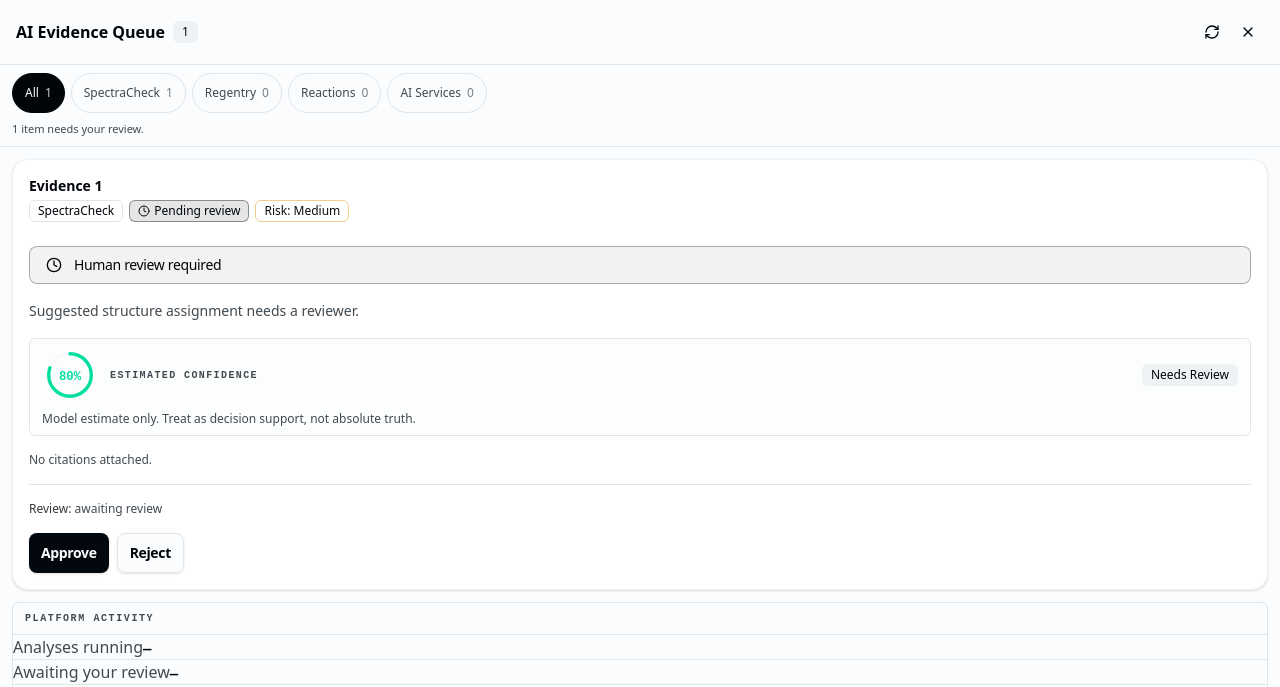
AIEvidenceQueuePanel › refetches on demand from the refresh control
Expected: the text "Evidence 1" is shown, [29,176,102,194]
Click the button named "Refresh AI Evidence Queue" at [1212, 32], box [1196,12,1228,52]
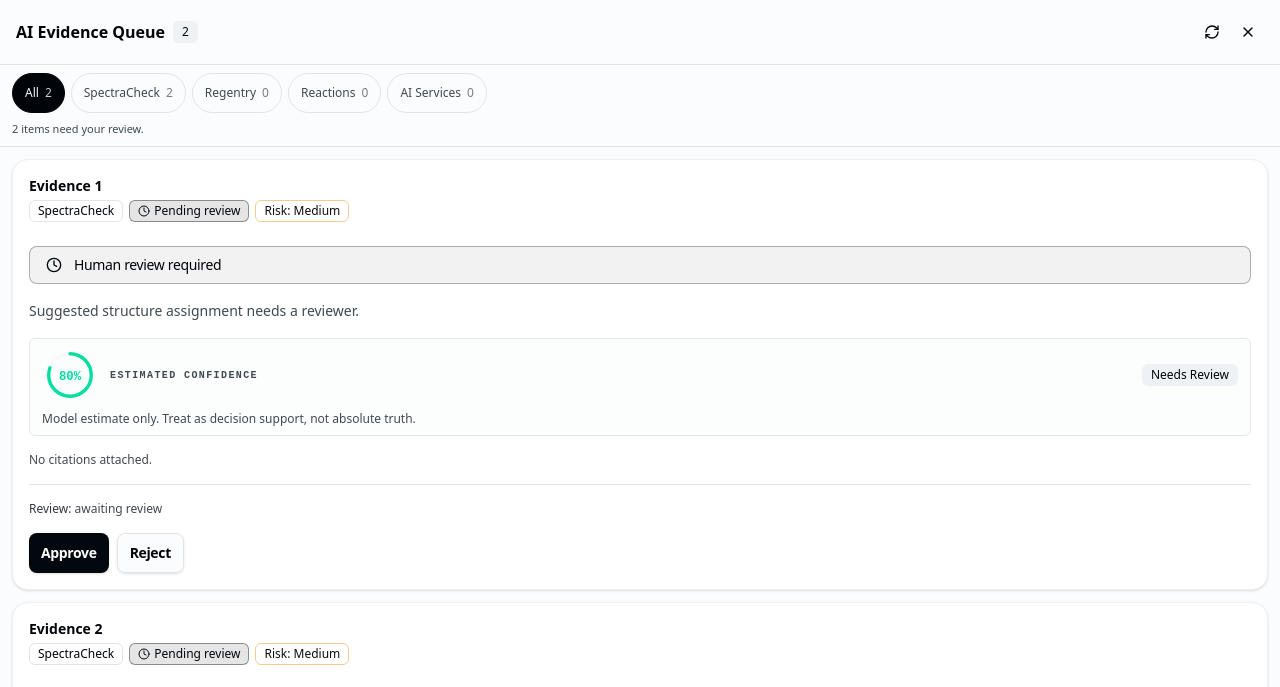
Expected: the text "Evidence 2" is shown, [29,619,102,638]
